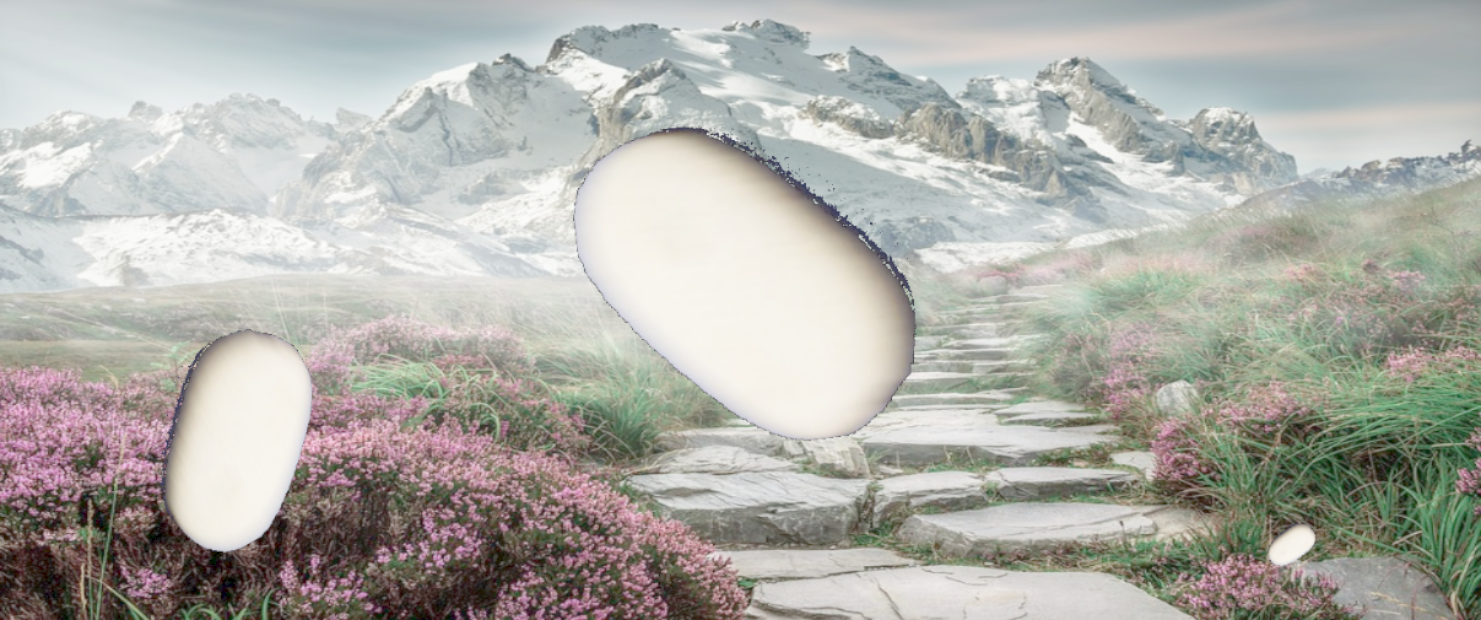test: (564, 99, 929, 464), (102, 305, 369, 572), (1265, 518, 1317, 570)
